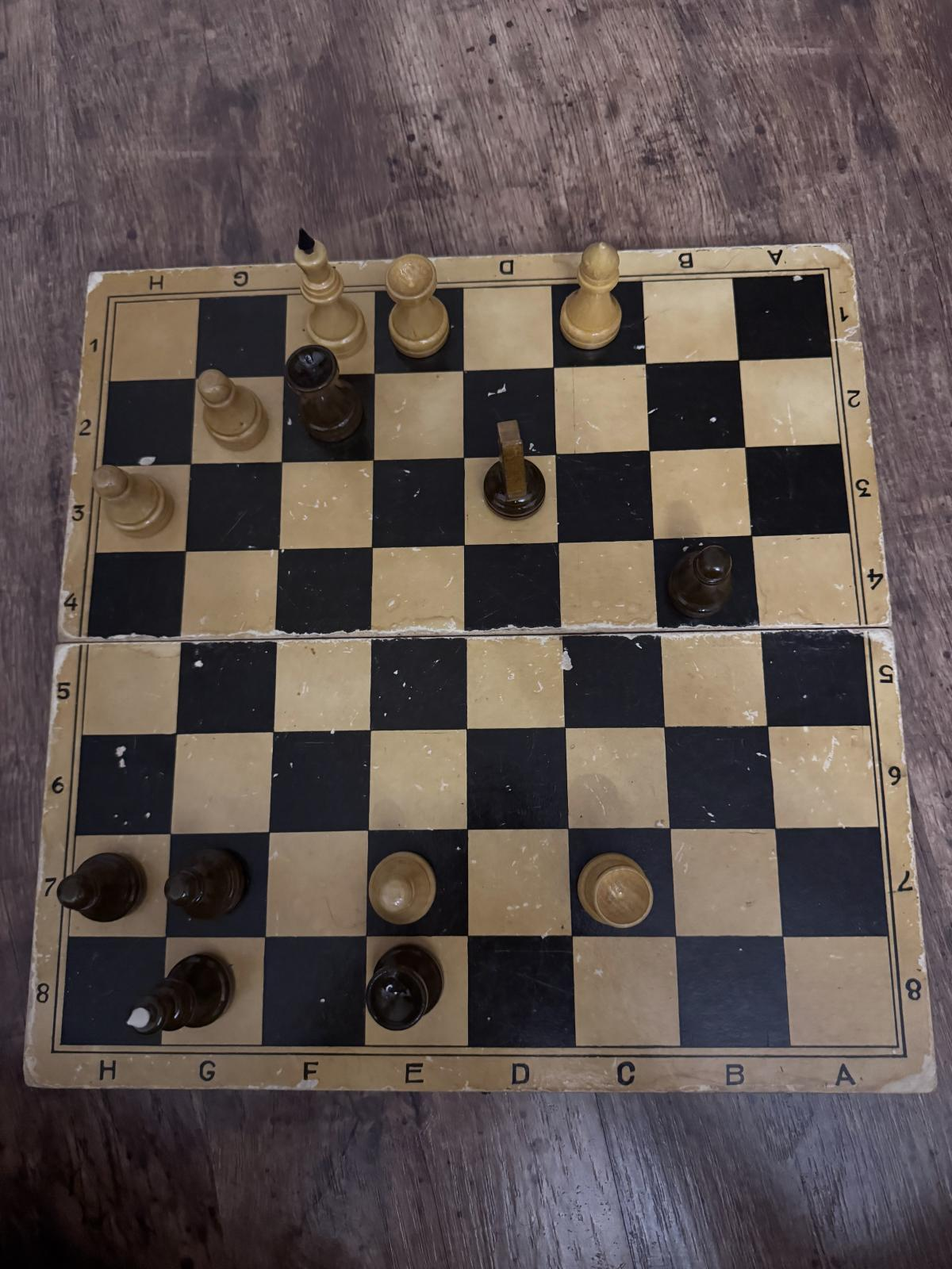Chess-Board: (61, 274, 898, 1046)
